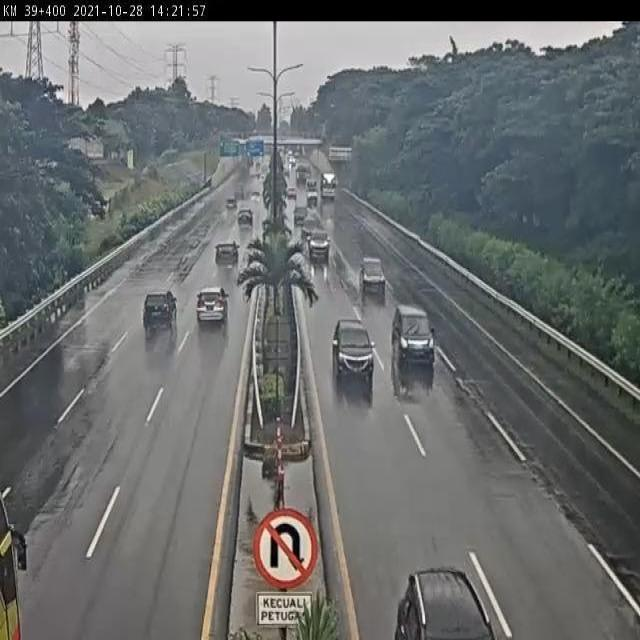Bus: (0, 489, 34, 640)
Car: (393, 566, 499, 636), (332, 319, 376, 401), (393, 304, 435, 367), (135, 282, 181, 339), (196, 286, 230, 329), (359, 257, 387, 303), (308, 230, 331, 265), (215, 242, 240, 266), (293, 206, 308, 228), (238, 208, 254, 228), (248, 189, 262, 207), (307, 190, 318, 208), (306, 177, 318, 192), (226, 197, 236, 210), (287, 186, 296, 199)
